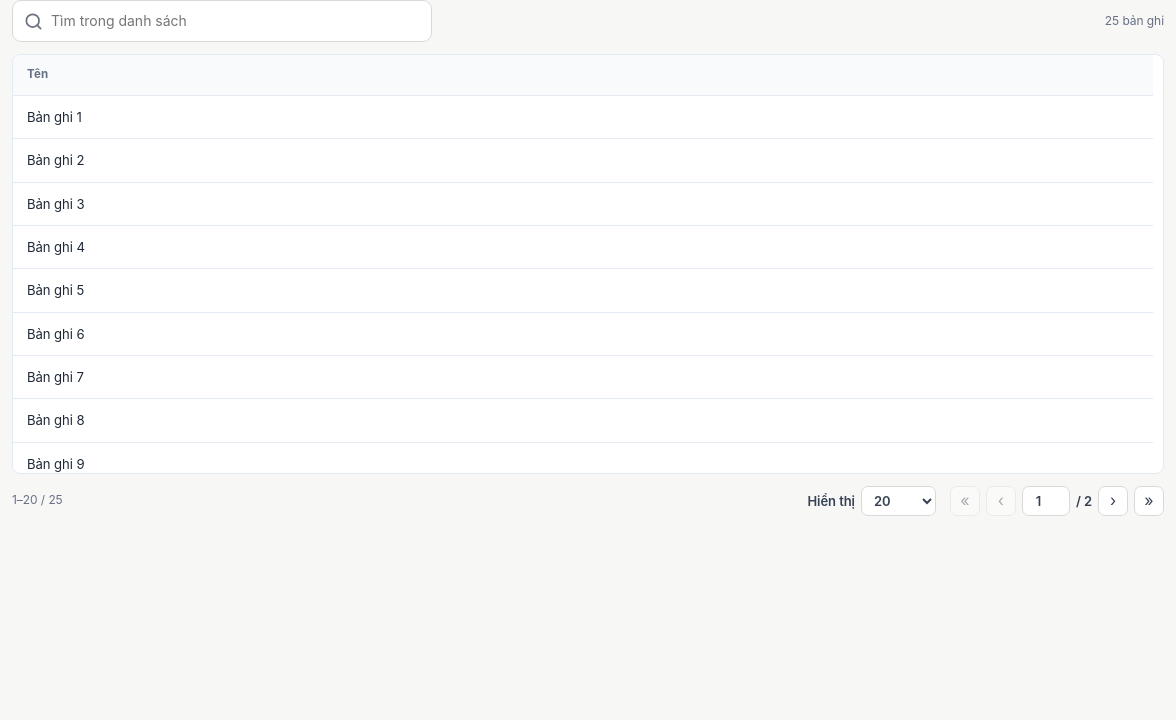
Scenario: DataTable large collection controls › mounts only the current page and navigates without losing records
Expected: the text "Bản ghi 1" is shown, [13,95,1153,139]
Expected: the text "Bản ghi 21" is not shown
Click the button named "Trang sau": (1113, 501) [1098,486,1128,516]
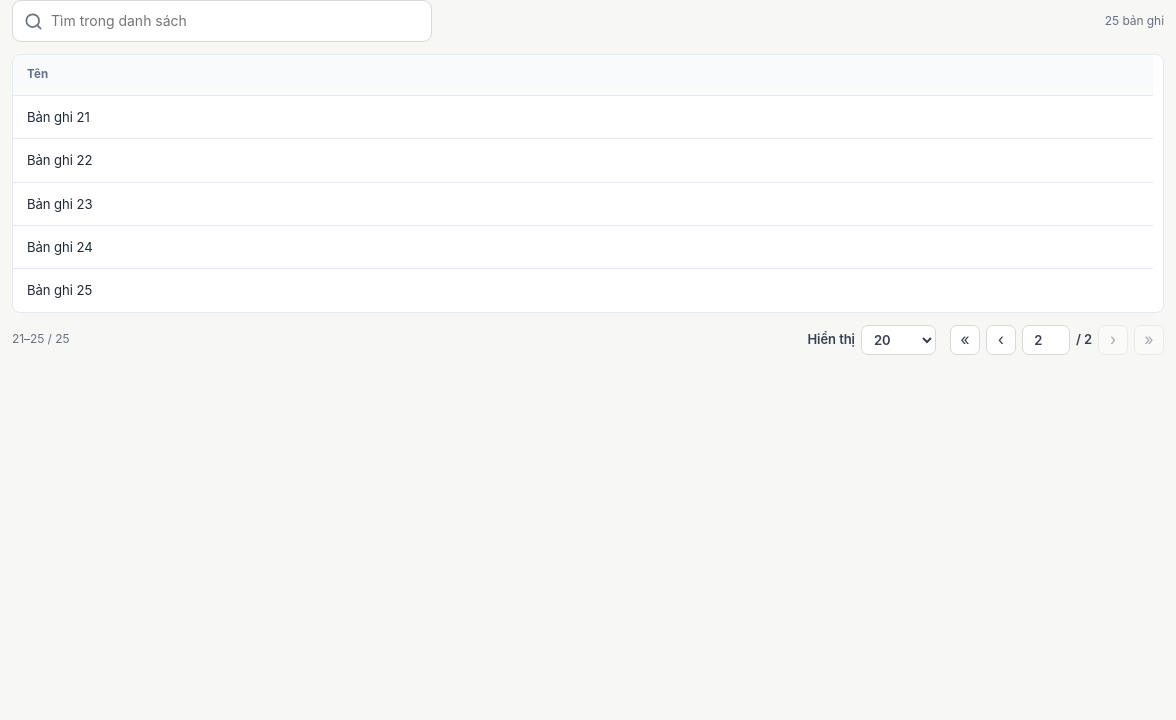
Now the text "Bản ghi 21" is shown, box [13,95,1153,139]
Now the text "Bản ghi 1" is gone
